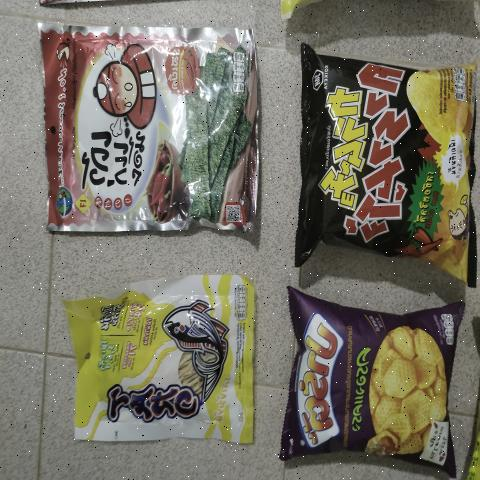karamujo: (311, 46, 479, 279)
party_purple: (302, 315, 438, 466)
taokaenoi: (47, 30, 258, 226)
taro_yellow: (78, 286, 250, 439)
